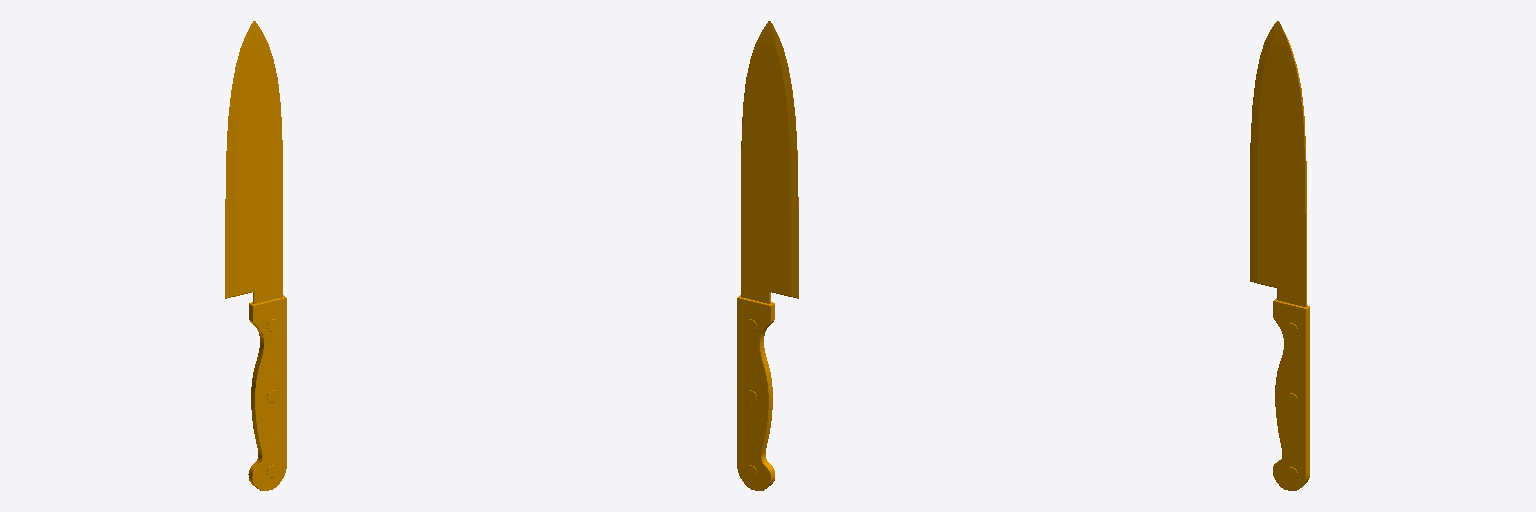
robot.urdf — knife:
<robot name="knife">
    <link name="knife">
        <visual>
            <origin rpy="0 0 0" xyz="-0.03 0. 0.005"/>
            <geometry>
                <mesh filename="knife.stl" scale="1.5 1.5 1.5"/>
            </geometry>
        </visual>
        <collision>
            <origin rpy="0 0 0" xyz="-0.03 0. 0.005"/>
            <geometry>
                <mesh filename="knife.stl" scale="1.5 1.5 1.5"/>
            </geometry>
        </collision>
    </link>
</robot>

--- Render facts (derived) ---
3 views of the same robot in one strip: view 1: azimuth 30°, elevation 25°; view 2: azimuth 150°, elevation 25°; view 3: azimuth 330°, elevation 25° (orthographic).
Robot: knife — 1 links, 0 joints (none); root link knife; default pose: every joint at zero.
Visible links, largest first — view 1: knife; view 2: knife; view 3: knife.
Link boxes in pixels (x1,y1,x2,y2): knife: (225,21,286,490); knife: (737,21,798,490); knife: (1250,21,1309,490).
Bounding box of the posed robot: 0.0386 × 0.0052 × 0.2914 m (x, y, z).
1 mesh visuals loaded from 1 distinct referenced files (1 binary STL).